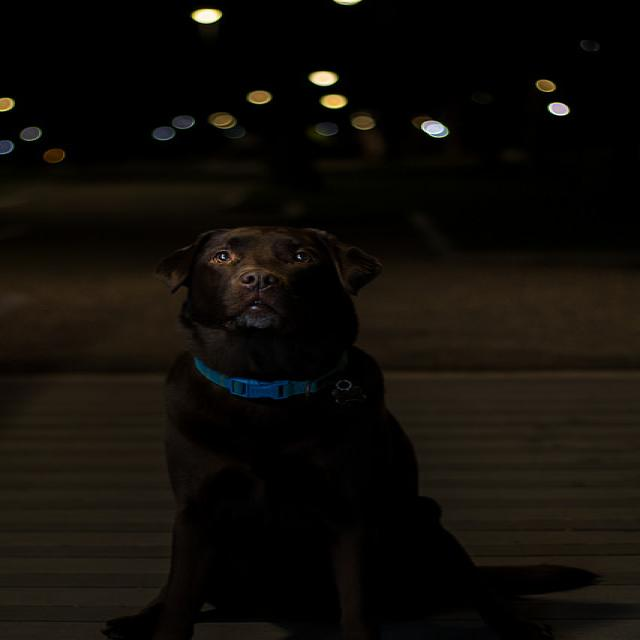Dog: (140, 215, 540, 614)
